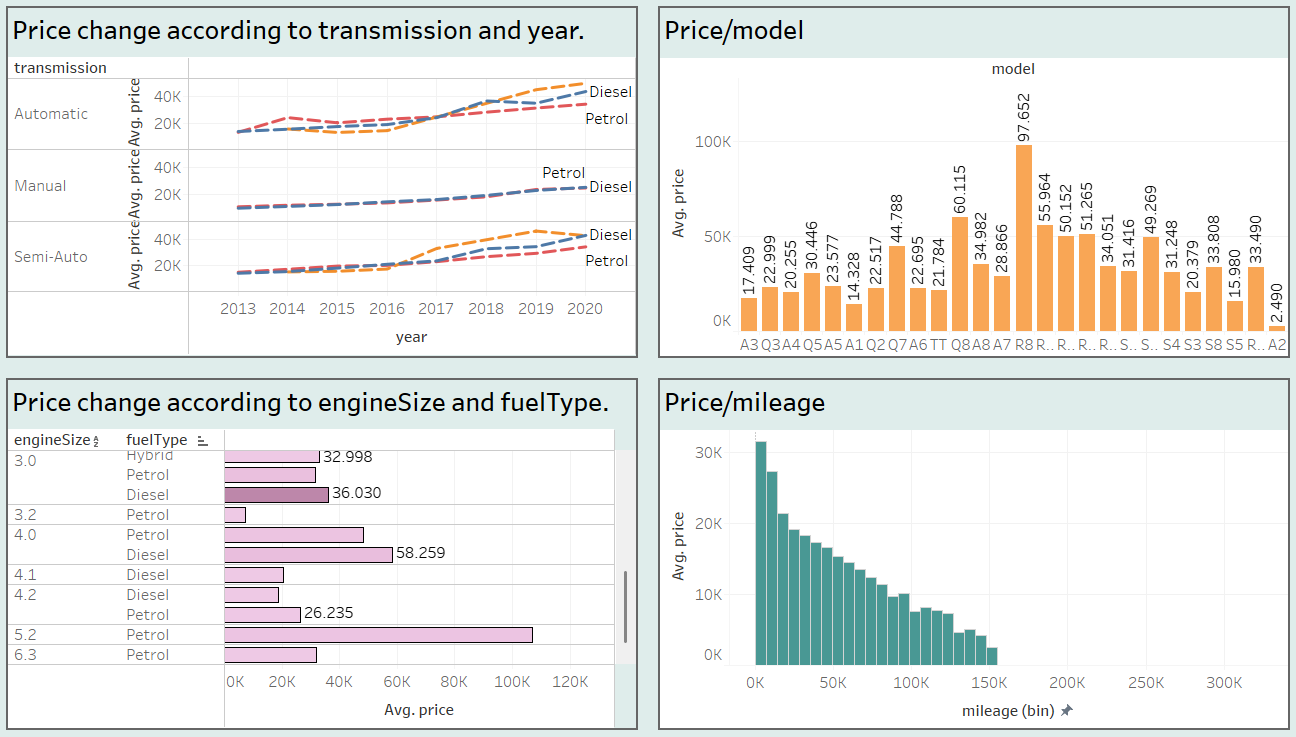

This screenshot's page, from the dashboard's own definition file:
{"tool":"tableau","page":{"name":"Dashboard 1","canvas":[1000,1000],"units":"permille","ordinal":0},"visuals":[{"type":"worksheet","title":"Sheet 1","mark":"Line","rows":["transmission","price"],"cols":["year"],"box":[6.1,10.5,493.9,489.5]},{"type":"worksheet","title":"Sheet 3","mark":"Automatic","rows":["price"],"cols":["model"],"box":[500,10.5,494,489.5]},{"type":"worksheet","title":"Sheet 2","mark":"Automatic","rows":["engineSize","fuelType"],"cols":["price"],"box":[6.1,500,493.9,489.5]},{"type":"worksheet","title":"Sheet 4","mark":"Bar","rows":["price"],"cols":["mileage (bin)"],"box":[499.9,500,494,489.5]}]}

Visuals, with their boxes on the dashboard's canvas, which has no fixed pixel size, in thousandths of its width and height (x1, y1, x2, y2). These are canvas units, not pixel positions in the 1296x737 screenshot, which may show the page scaled, cropped or inside an application window:
"Sheet 1" worksheet (Line marks): x1=6, y1=10, x2=500, y2=500
"Sheet 3" worksheet: x1=500, y1=10, x2=994, y2=500
"Sheet 2" worksheet: x1=6, y1=500, x2=500, y2=990
"Sheet 4" worksheet (Bar marks): x1=500, y1=500, x2=994, y2=990
